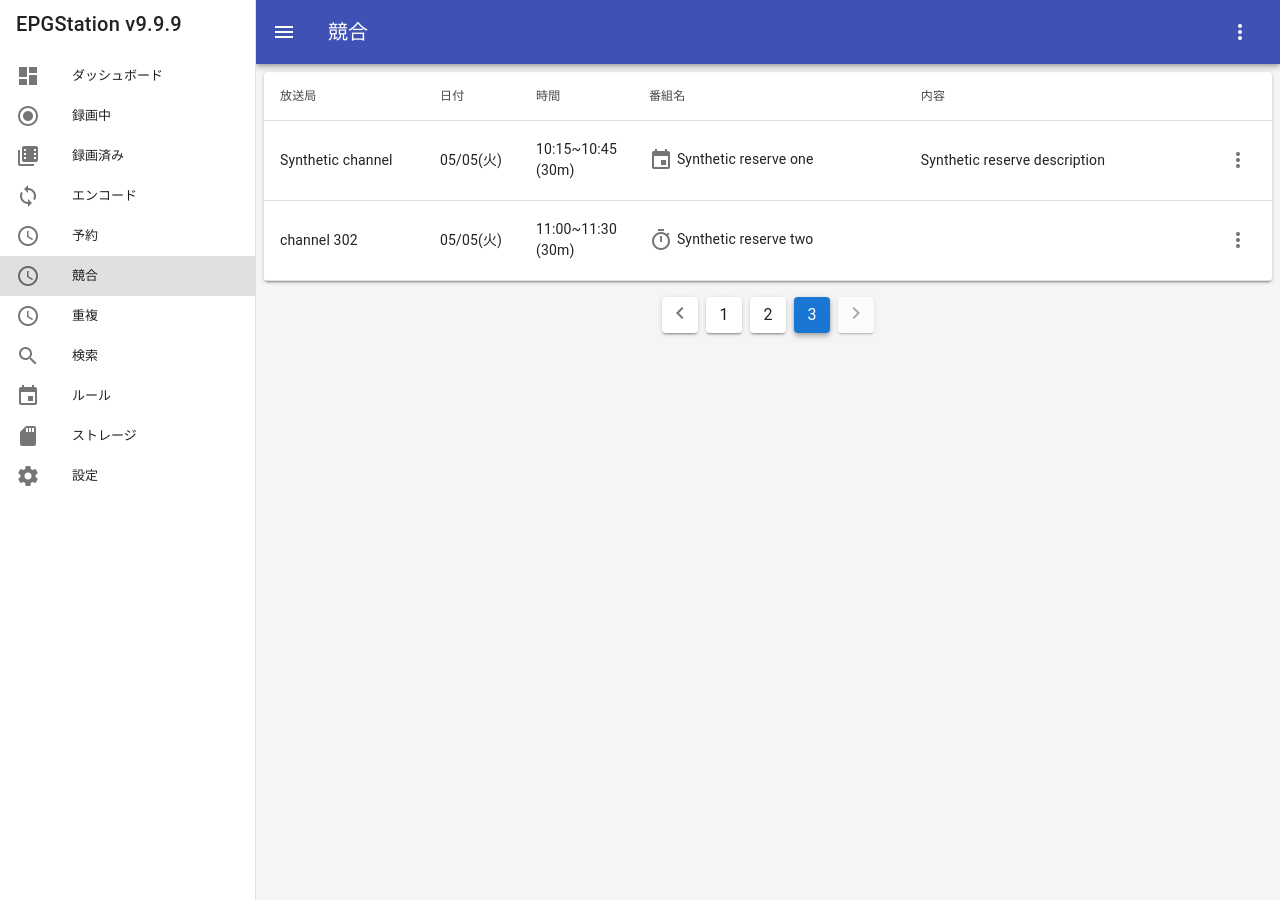
Test case: Reserves dialog and keyboard interaction › [AC 2.9] opens ReserveDialog through keyboard-operable item content and shows API-shape fallbacks
expect the text "Synthetic reserve two" is shown: met, box x1=677 y1=231 x2=814 y2=247
expect the text "Synthetic reserve two" shows "channel 302": met, box x1=280 y1=232 x2=358 y2=248
Click the text "Synthetic reserve two" at (768, 240), box x1=264 y1=200 x2=1272 y2=280
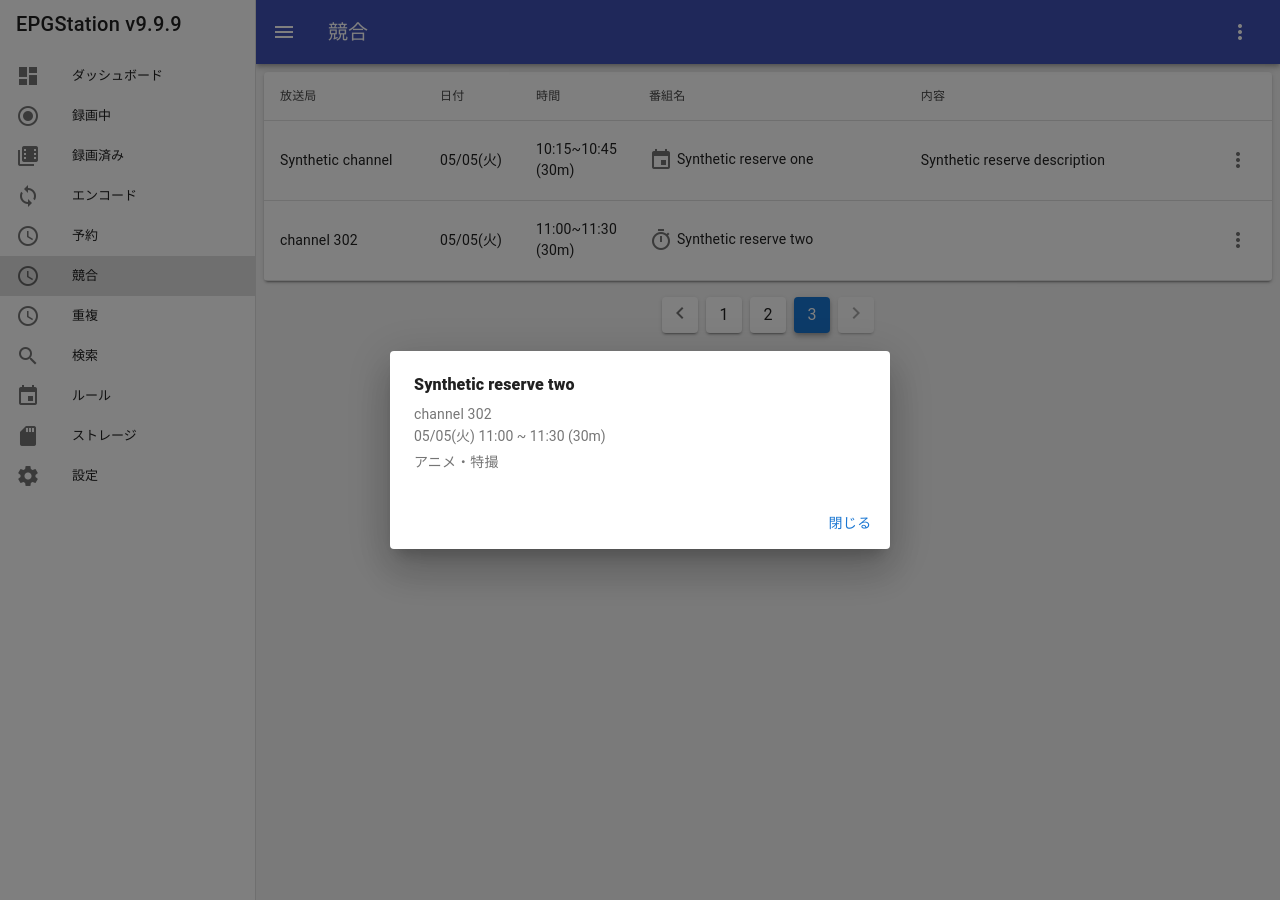
expect the dialog "Synthetic reserve two" shows "channel 302": met, box x1=414 y1=406 x2=492 y2=422
expect the dialog "Synthetic reserve two" shows "アニメ・特撮": met, box x1=414 y1=454 x2=499 y2=470
